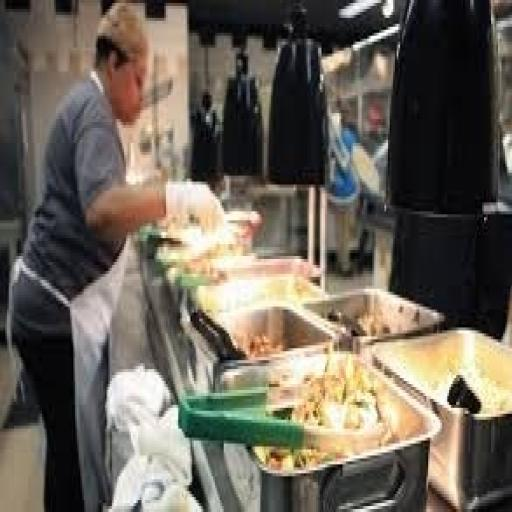eating: (6, 0, 260, 509)
